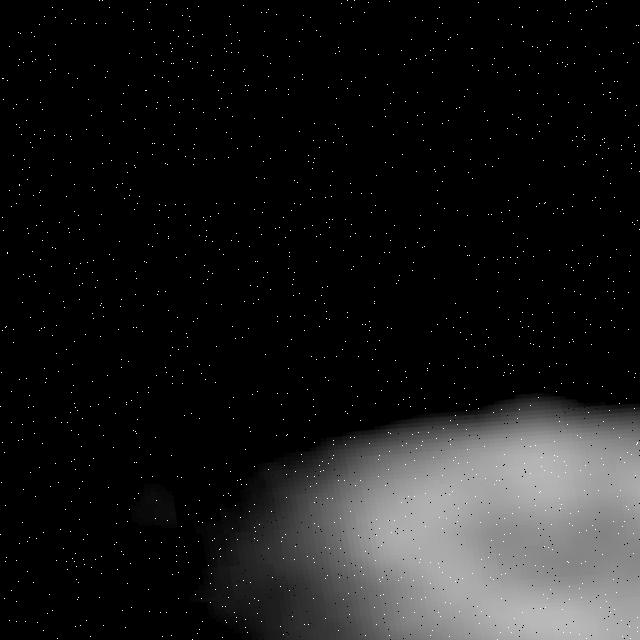person: (228, 352, 640, 640)
